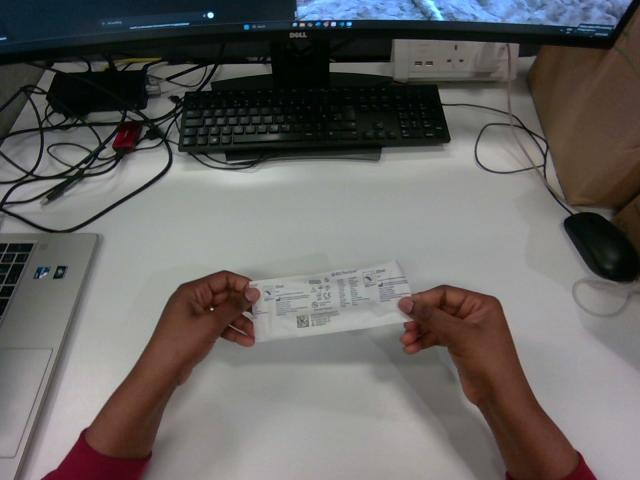syringe: (251, 261, 409, 341)
